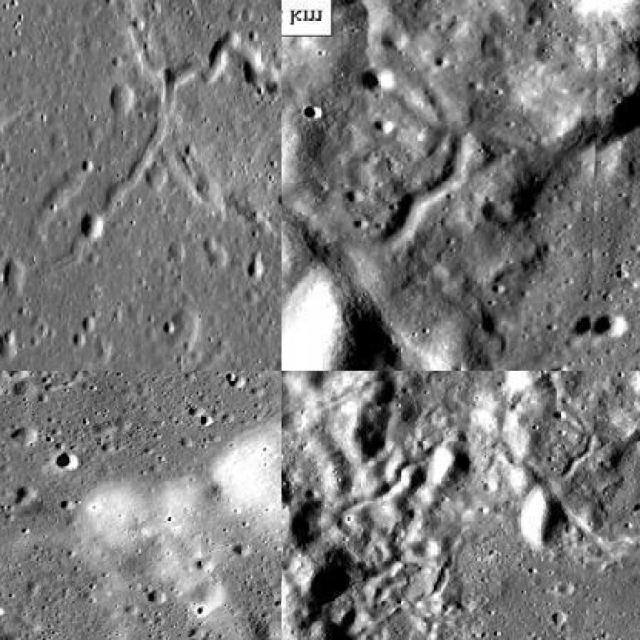rille: (0, 0, 280, 369), (282, 151, 523, 369), (333, 415, 624, 563), (351, 0, 480, 252), (0, 371, 114, 558), (528, 370, 600, 484)
